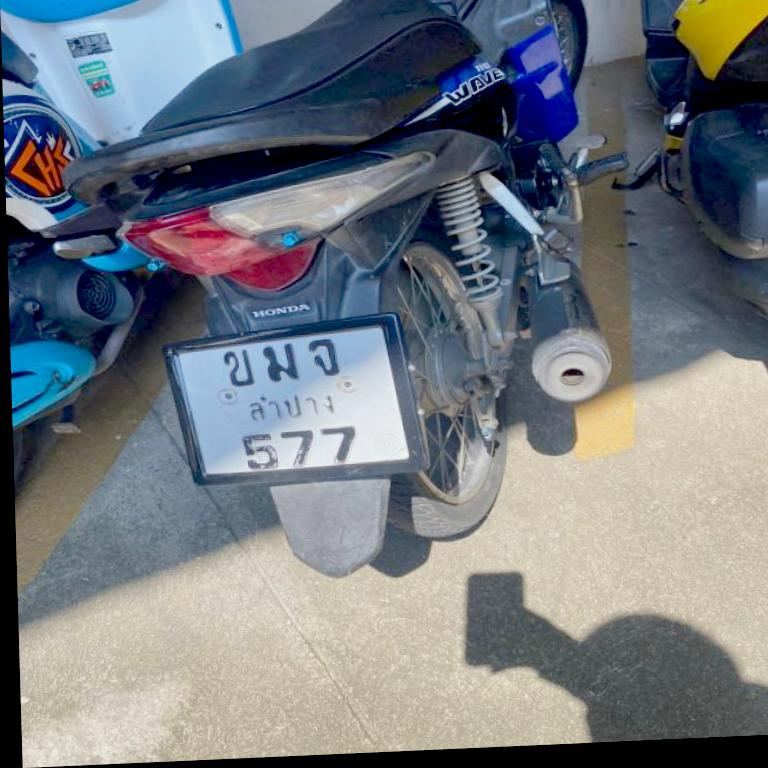license plate: (160, 306, 437, 488)
